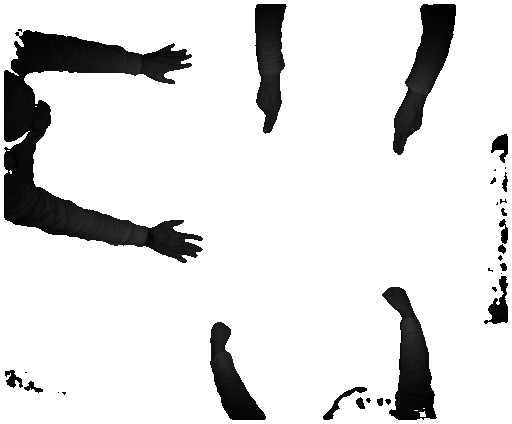fist: (376, 280, 417, 313), (208, 320, 231, 348)
hand: (153, 220, 207, 263), (392, 102, 429, 158), (146, 43, 191, 87), (256, 83, 287, 135)
